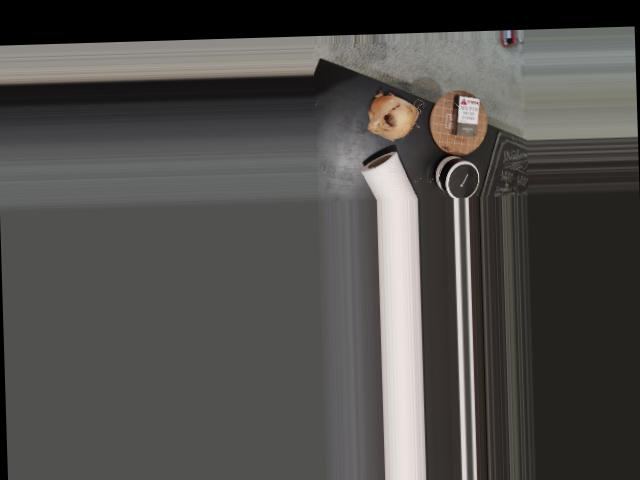onion: (364, 89, 421, 142)
